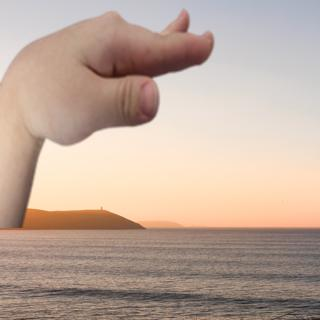Wait: (0, 5, 222, 156)
